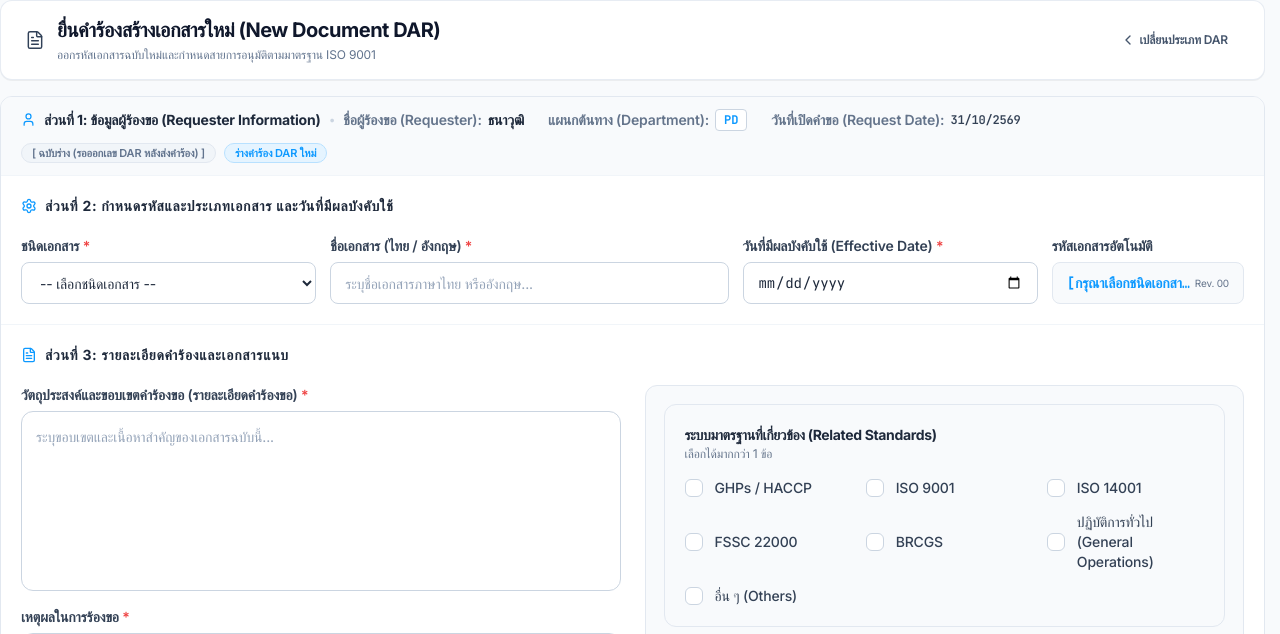
Test: ISO 9001 Document Code Sequence Integrity & Obsolete ID Non-Recycling Tests › 3. React Form & Store Integration › DarNewForm renders SOP-PD-51 preview when 50 documents exist with #47 OBSOLETE
Note: Select SOP
Select "Standard Operating Procedure (SOP)" in the dropdown at (169, 283), box [21,262,316,304]
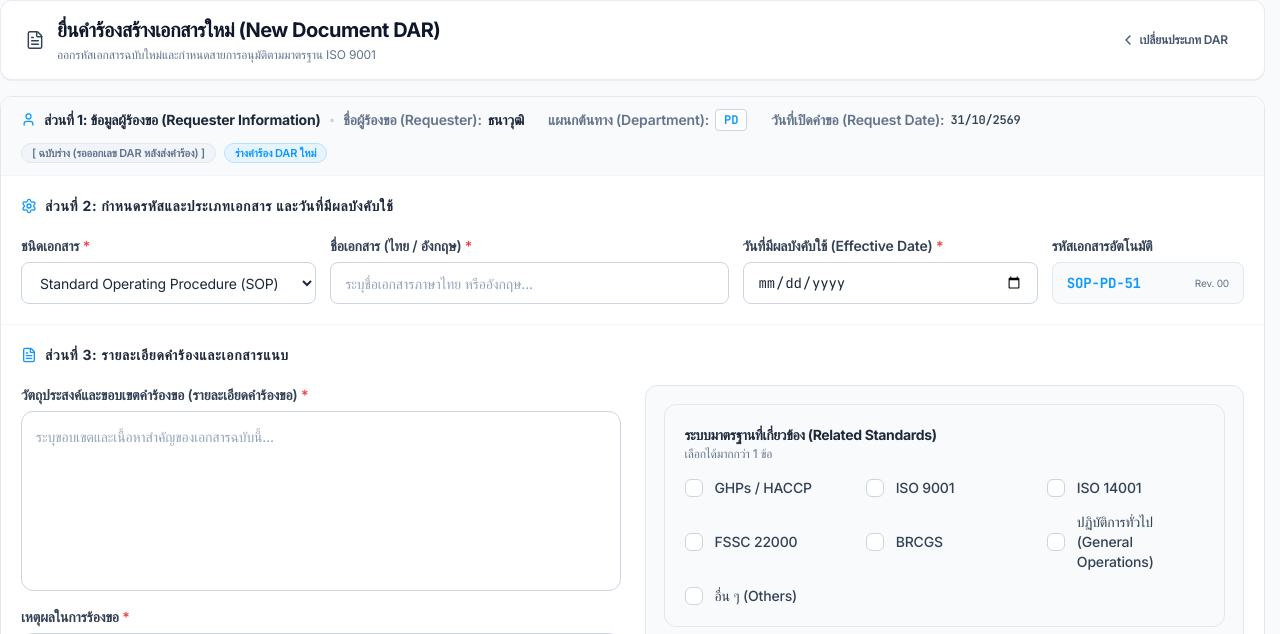
expect the text "SOP-PD-51" is shown: met, box [1067,273,1141,293]
